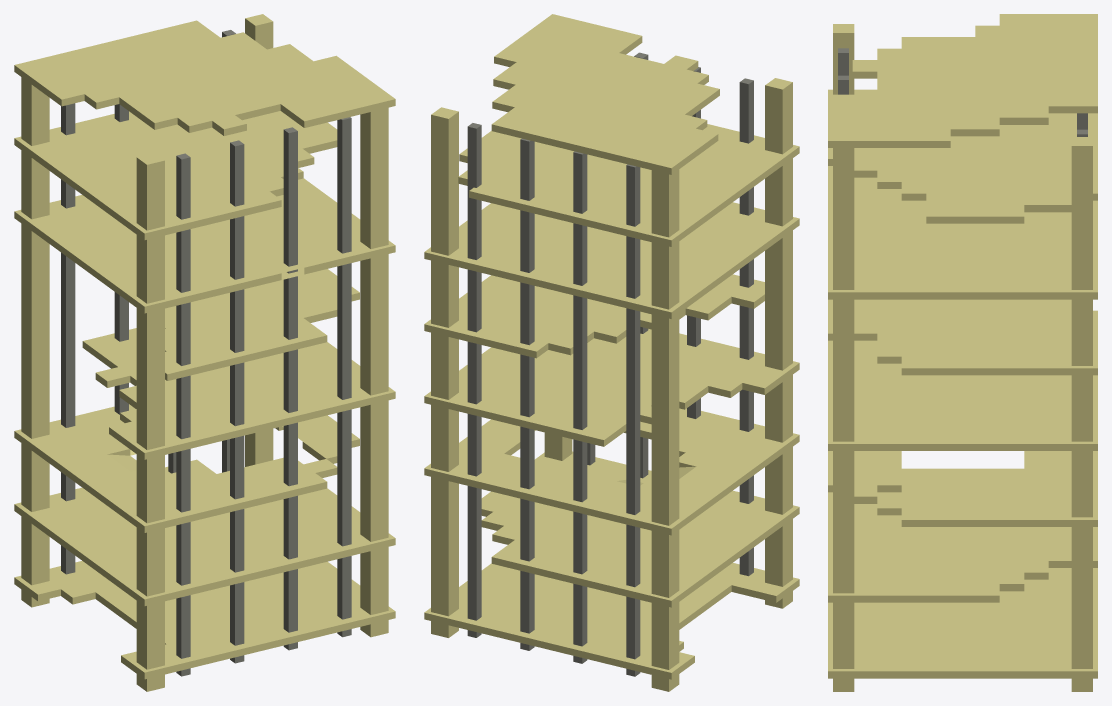
The model's file is house4.fbx.
The picture shows the model from 3 angles, left to right: view 1: azimuth 30°, elevation 25°; view 2: azimuth 150°, elevation 25°; view 3: azimuth 270°, elevation 25°; orthographic projection. The views are drawn at different scales.
Parts seen in each view (by area): view 1: 立方體.004; view 2: 立方體.004; view 3: 立方體.004.
Boxes of the visible parts, x1,y1,x2,y2 form: 立方體.004: [14, 14, 395, 691]; 立方體.004: [424, 14, 799, 691]; 立方體.004: [828, 14, 1097, 691].
Bounding box in the file's own units: 745 × 1516 × 670.
1 material, 1 textured.
